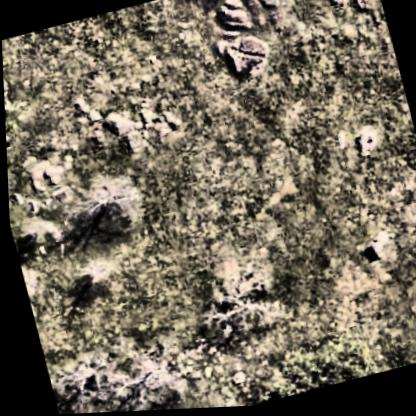tree-top: (188, 256, 289, 356), (244, 334, 379, 406), (64, 163, 147, 250), (96, 338, 182, 413), (39, 345, 112, 415), (71, 248, 118, 296)
